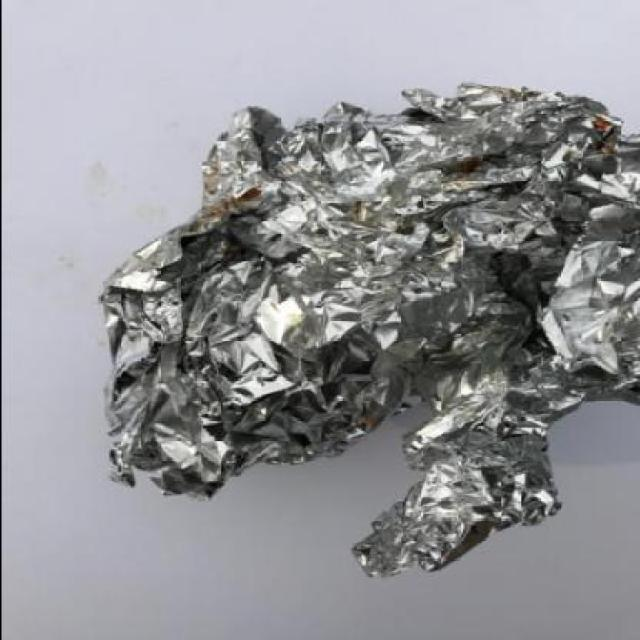METAL: (94, 82, 638, 580)
